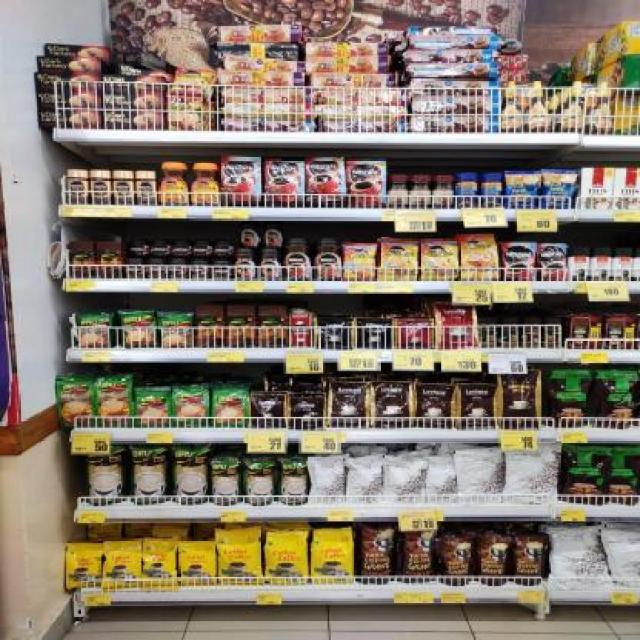Coffee: (222, 157, 262, 206), (307, 158, 345, 207), (267, 158, 305, 207), (348, 160, 386, 208), (460, 235, 498, 280), (380, 238, 417, 280), (420, 240, 458, 280), (501, 242, 536, 280), (158, 162, 188, 205), (343, 243, 377, 280), (534, 243, 568, 279), (285, 237, 313, 280), (191, 162, 218, 206), (314, 238, 341, 280), (136, 170, 158, 205), (259, 248, 283, 280), (68, 169, 88, 202), (114, 170, 132, 205), (239, 220, 261, 248), (92, 170, 110, 204), (236, 249, 256, 279), (263, 221, 285, 247), (124, 258, 145, 279), (127, 238, 150, 257), (212, 260, 233, 280), (214, 239, 235, 258), (169, 260, 188, 280), (173, 239, 192, 258), (148, 259, 166, 279), (194, 239, 212, 258), (191, 260, 209, 278), (153, 238, 170, 257)
